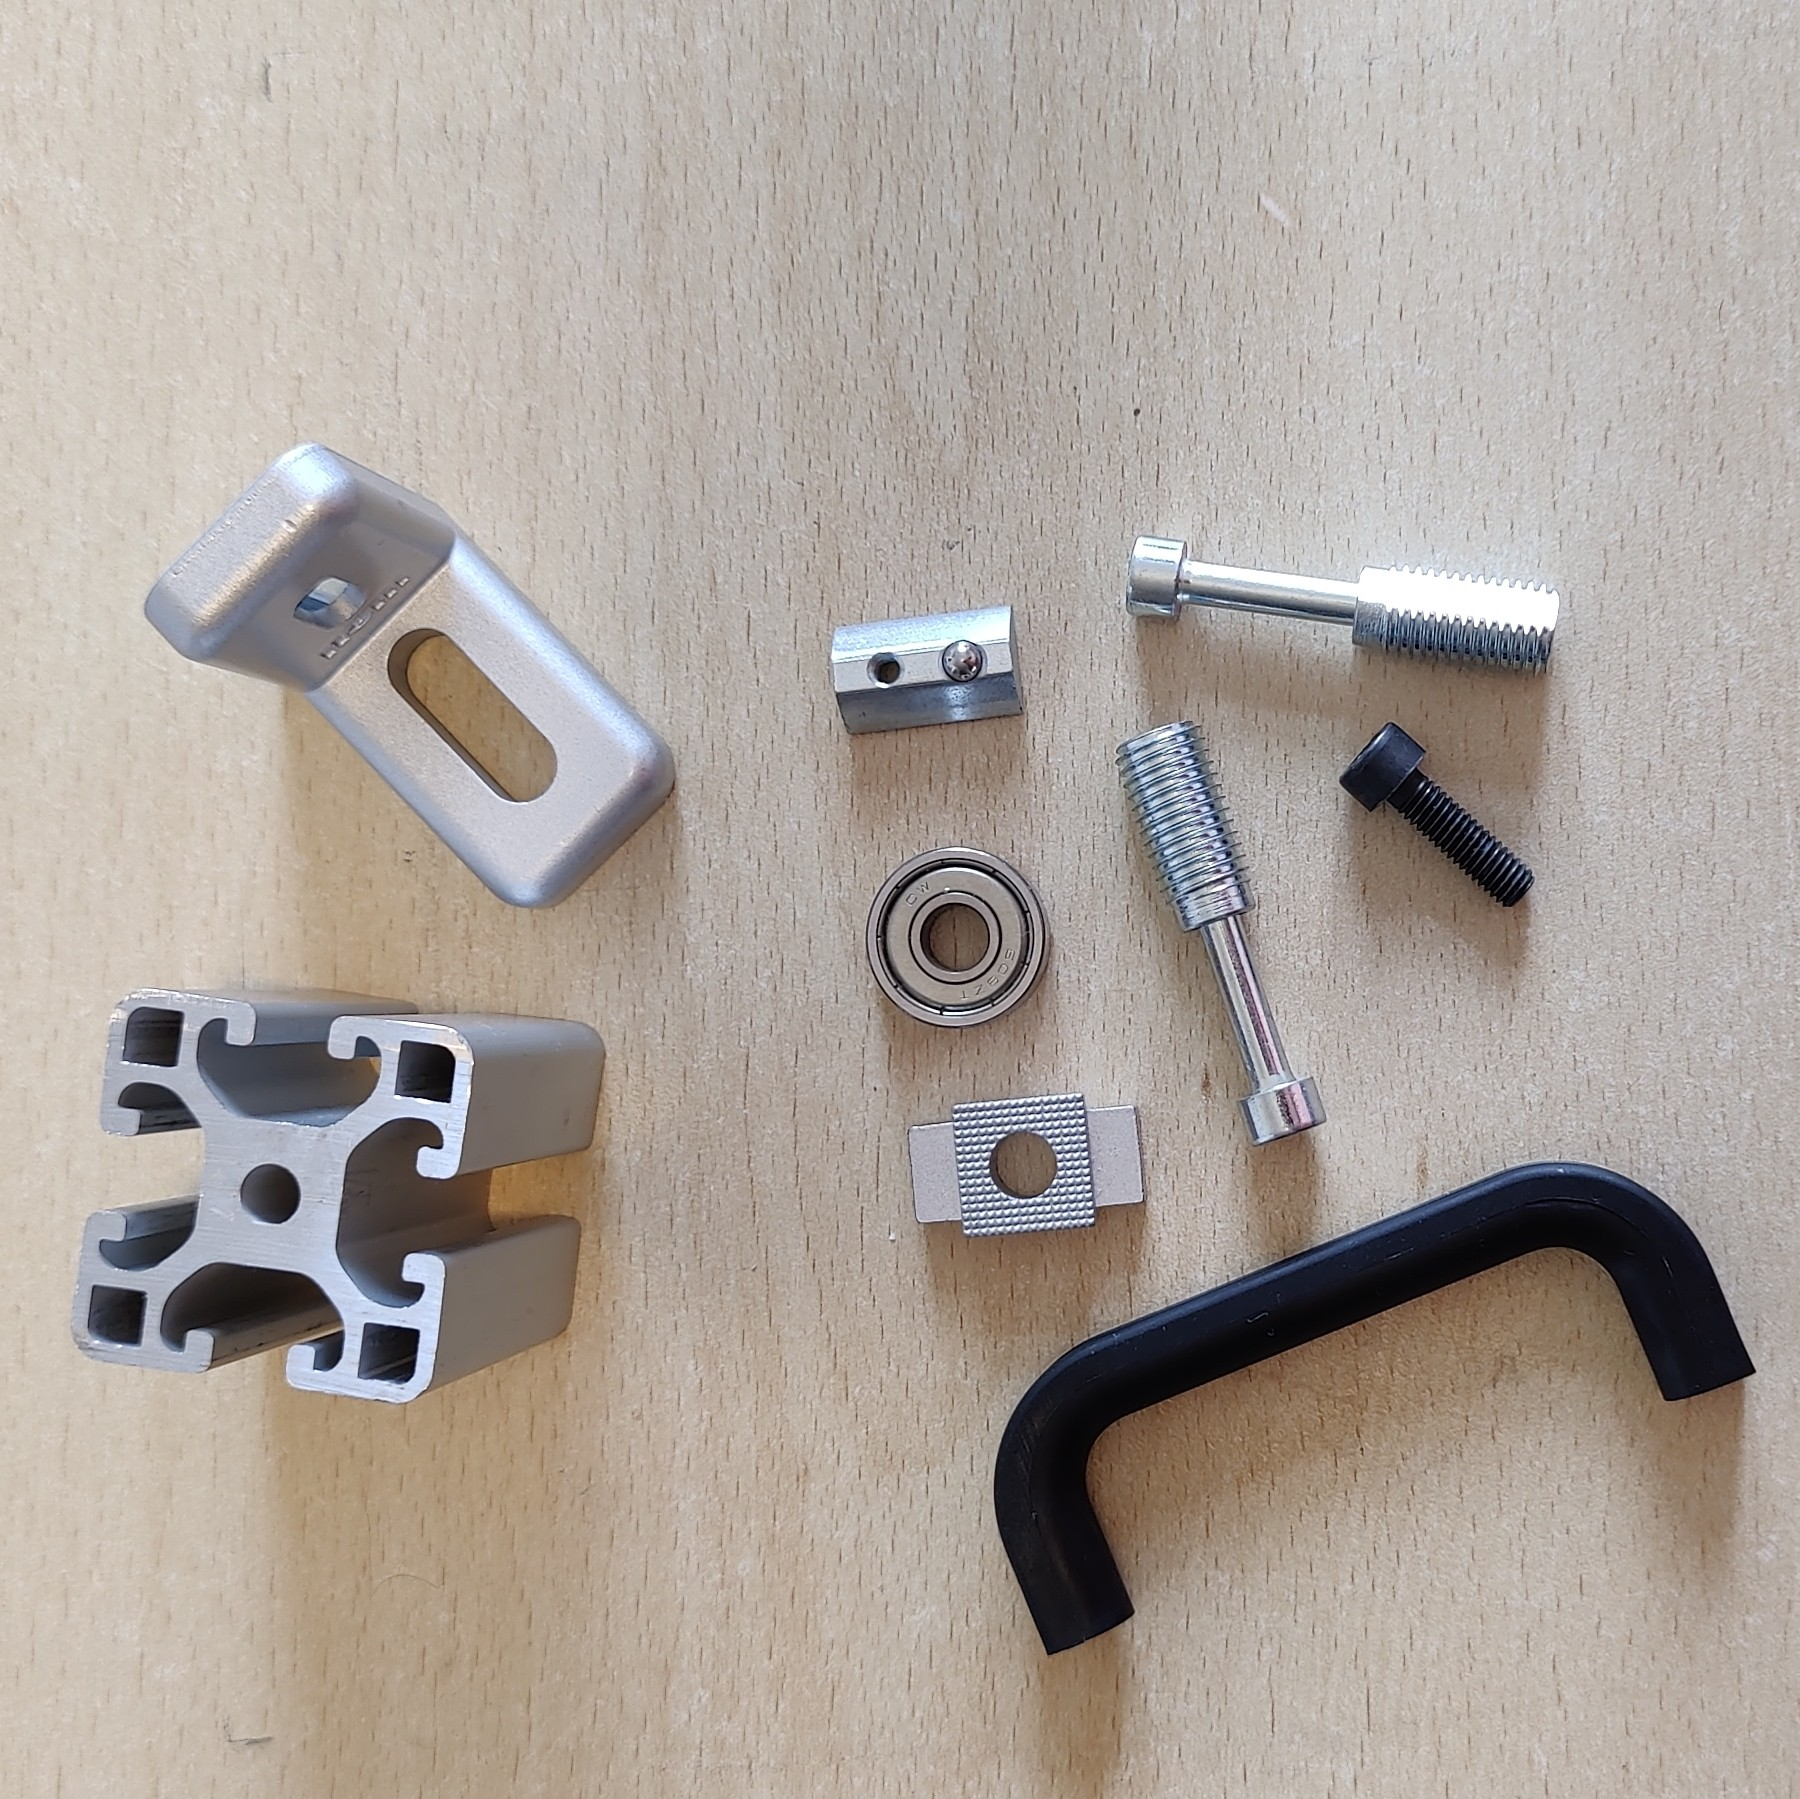Aluminium Extension: (69, 985, 606, 1407)
Ball Bearing: (861, 845, 1051, 1031)
Multiwinkel: (143, 442, 677, 911)
Pull Handle: (990, 1156, 1757, 1657)
Shoulder Socket Head Cap Screw: (1113, 717, 1327, 1148), (1122, 534, 1563, 680)
Socket Head Cap Screw: (1336, 718, 1538, 913)
T Nut Square: (906, 1091, 1149, 1242)
T Spring Nut: (828, 603, 1029, 735)
